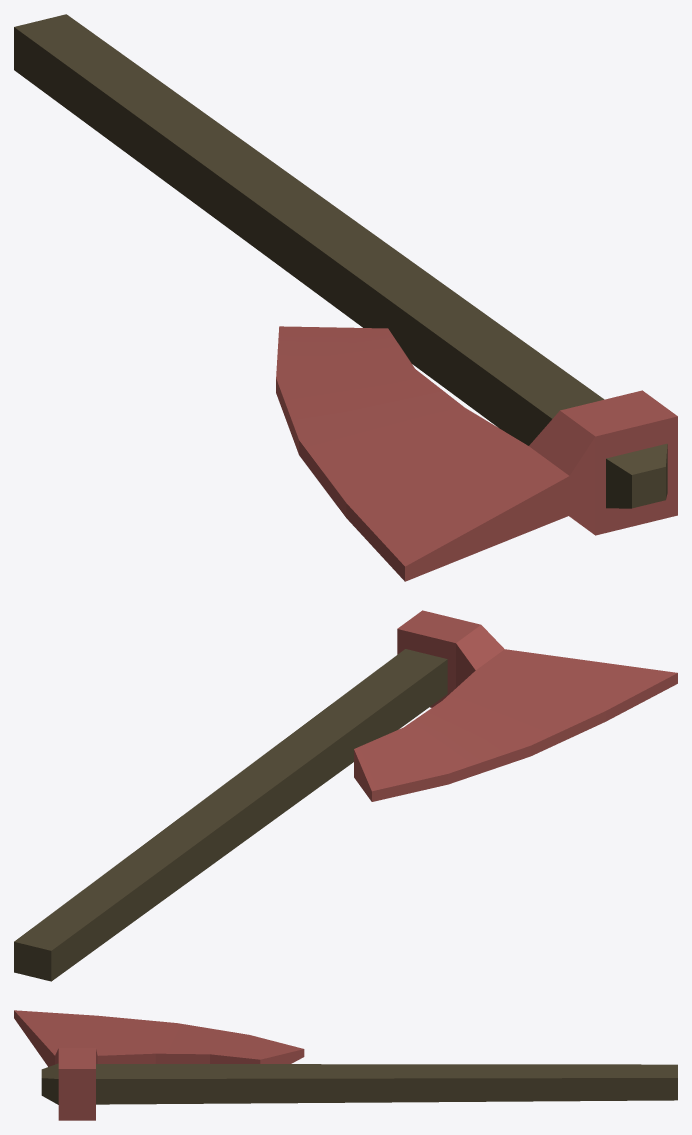
File: RedBruteAxe.fbx
3 renders of one model, top to bottom at view 1: azimuth 30°, elevation 25°; view 2: azimuth 150°, elevation 25°; view 3: azimuth 270°, elevation 25°, orthographic. The views are drawn at different scales.
Visible parts, largest first — view 1: pPlane3; view 2: pPlane3; view 3: pPlane3.
Boxes of the visible parts, x1,y1,x2,y2 form: pPlane3: [14, 14, 677, 581]; pPlane3: [14, 610, 677, 981]; pPlane3: [14, 1010, 677, 1120].
Size of the model in its own units: 0.3324 by 0.0997 by 1.16.
